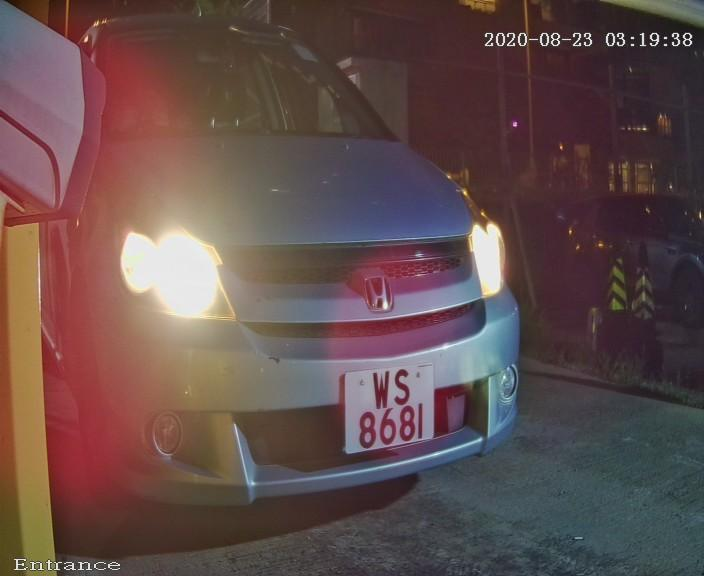Car: (32, 13, 579, 548)
License Plate: (324, 353, 453, 461)
